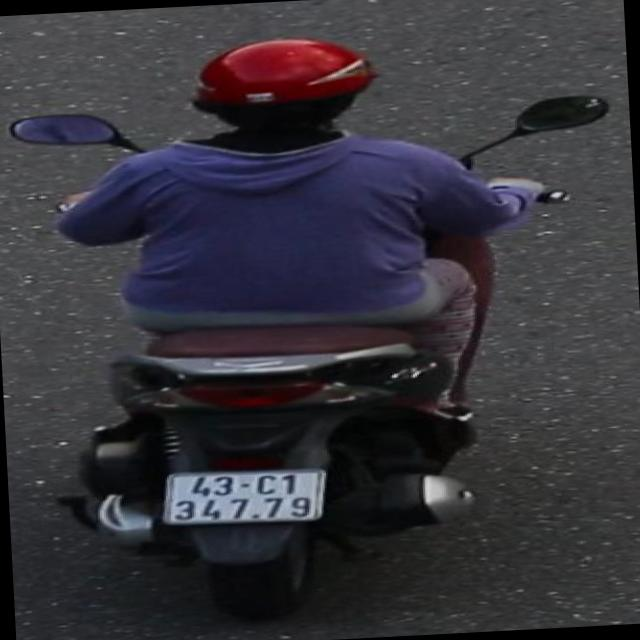LP: (143, 458, 341, 534)
helmet: (180, 29, 406, 172)
